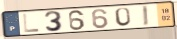0: (114, 7, 132, 28)
3: (44, 10, 64, 33)
6: (68, 9, 86, 31), (91, 8, 109, 29)
I: (141, 5, 150, 27)
L: (22, 13, 42, 34)
